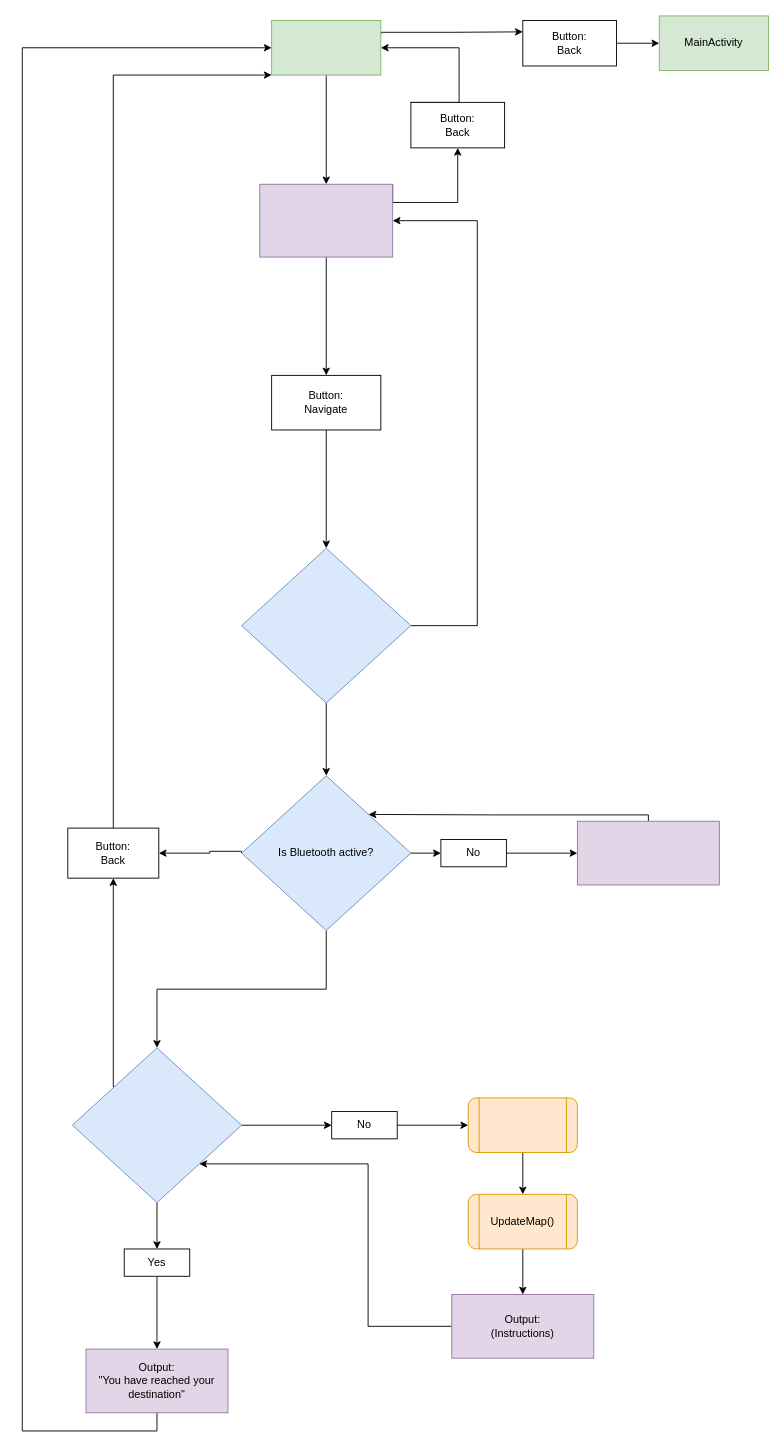
Image size: 784x1454. Some labels were removed from this diagram. Here are the shapes that lost their labels. From the top down, the box of each, then its label:
(271, 20, 381, 75): WayfinderActivity
(259, 183, 393, 257): Input: Destination searchbar
(241, 547, 411, 703): Has a valid destination been chosen?
(576, 820, 719, 885): Output: "Please activate Bluetooth"
(71, 1047, 242, 1203): Is the phone at the destination?
(467, 1097, 577, 1153): CalculatePath()
